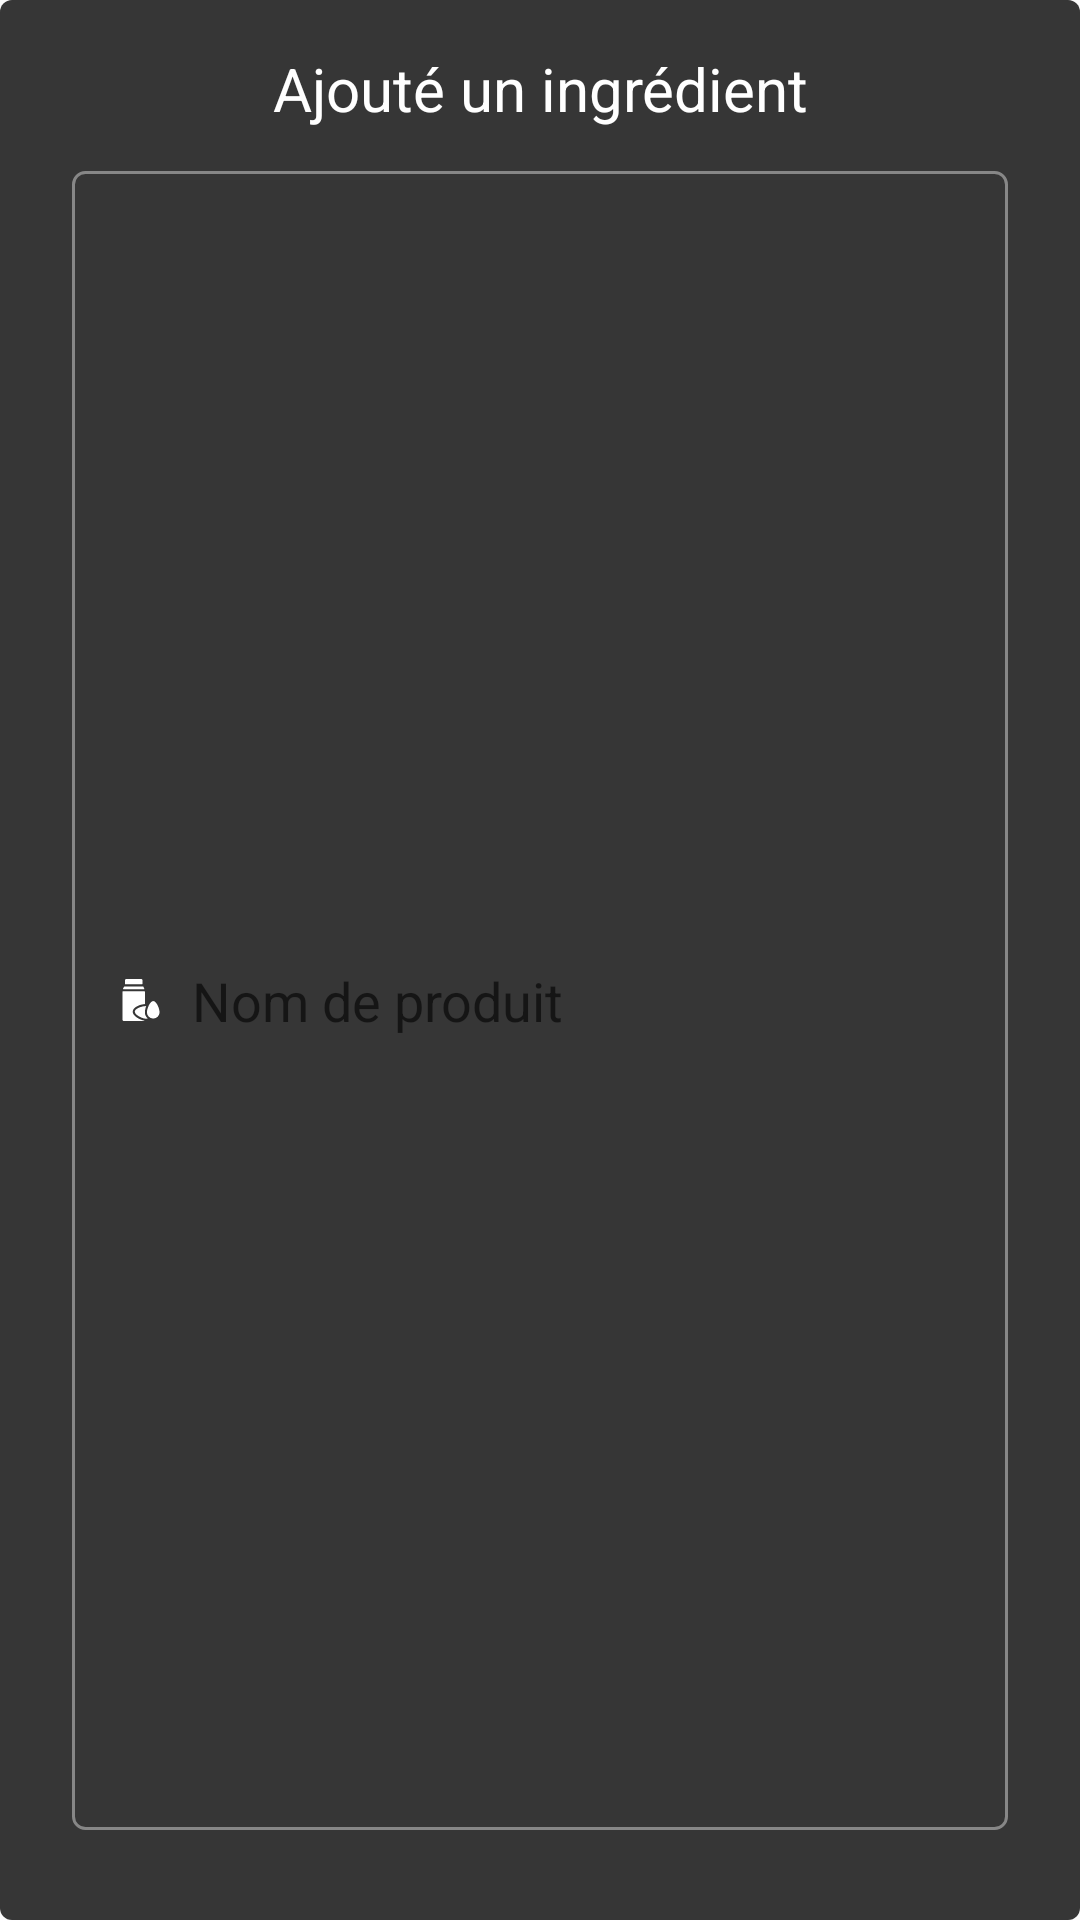

Icons on this 1080px×1920px Android screen, each with the point to tap as (x=x, y=y):
ingredients: (x=141, y=1000)
